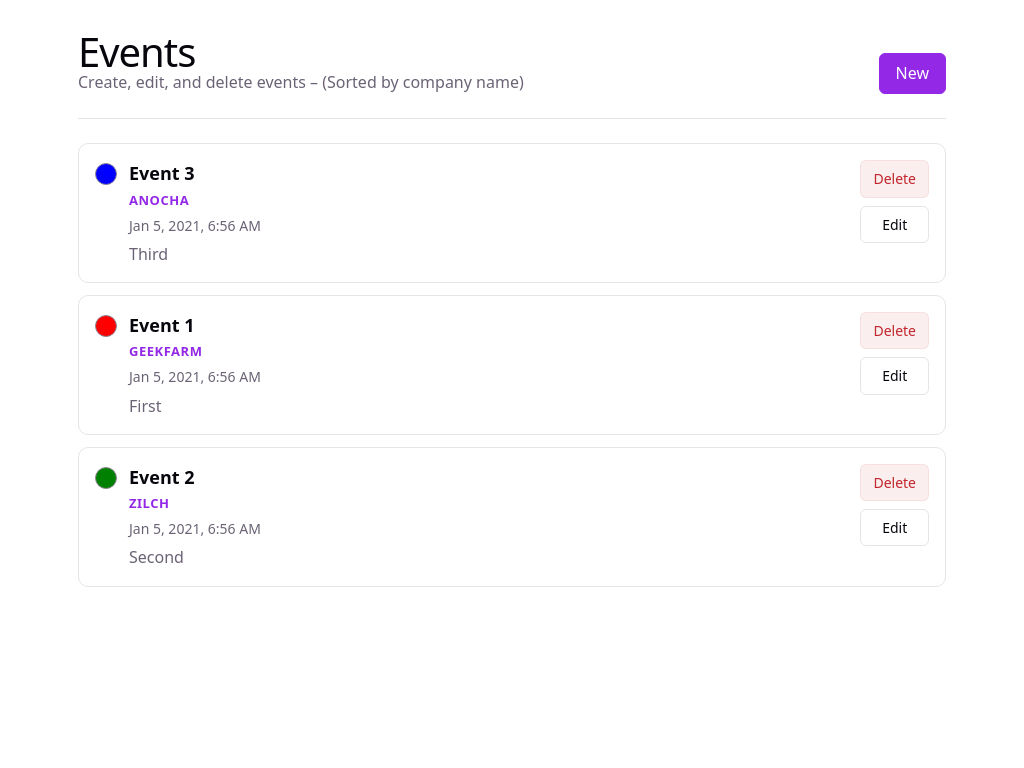
Test case: focus management › moves focus to the heading when a save finds the event already deleted
Click the button with aria-label "Edit Event 1".
click(895, 376)  # box [860, 357, 929, 394]
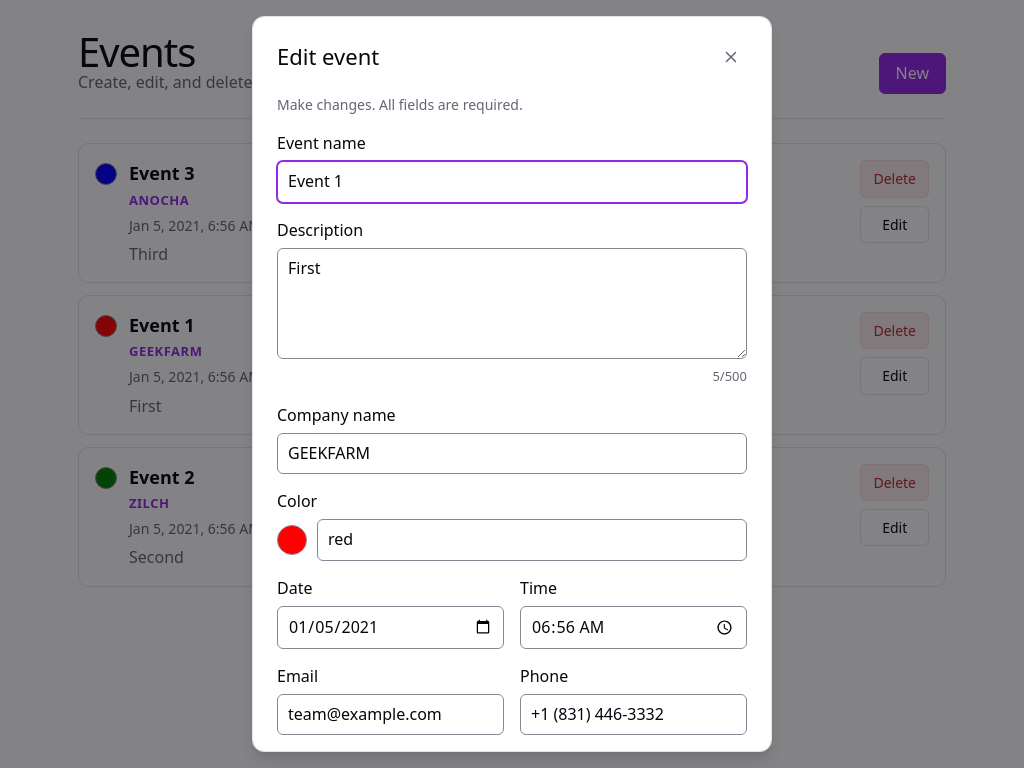
Type "!" into the field labelled "Event name".
click(512, 182); type("!")  # box [277, 161, 747, 203]
(page scrolled)
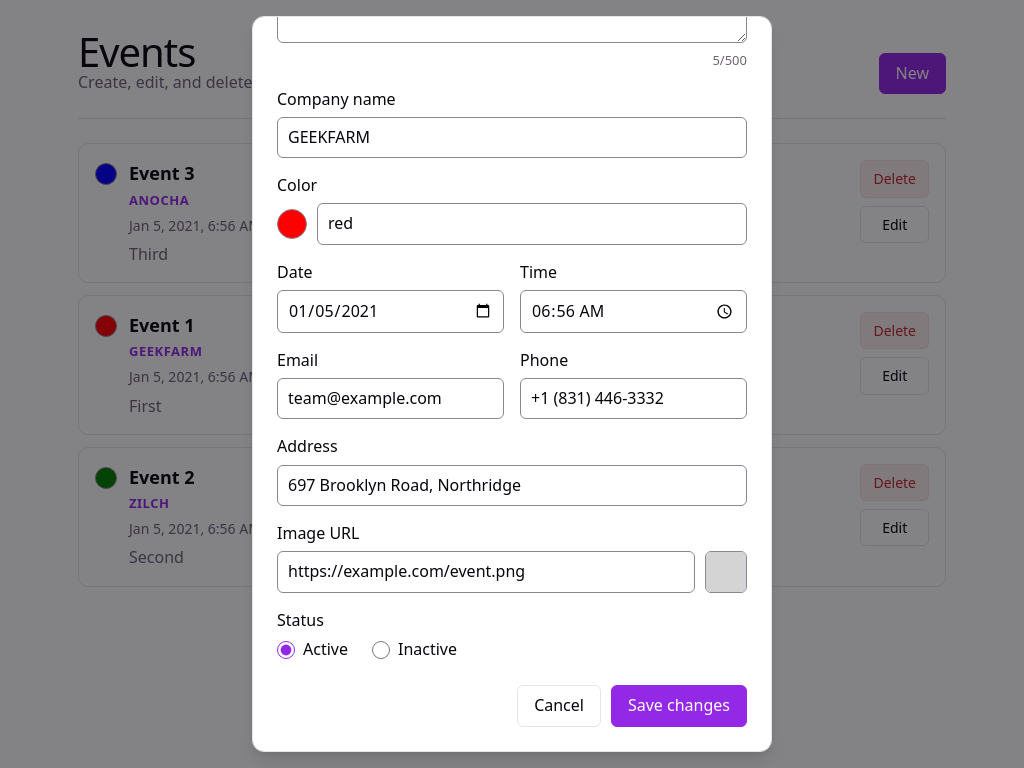
Click the button "Save changes".
click(679, 706)  # box [611, 685, 747, 726]
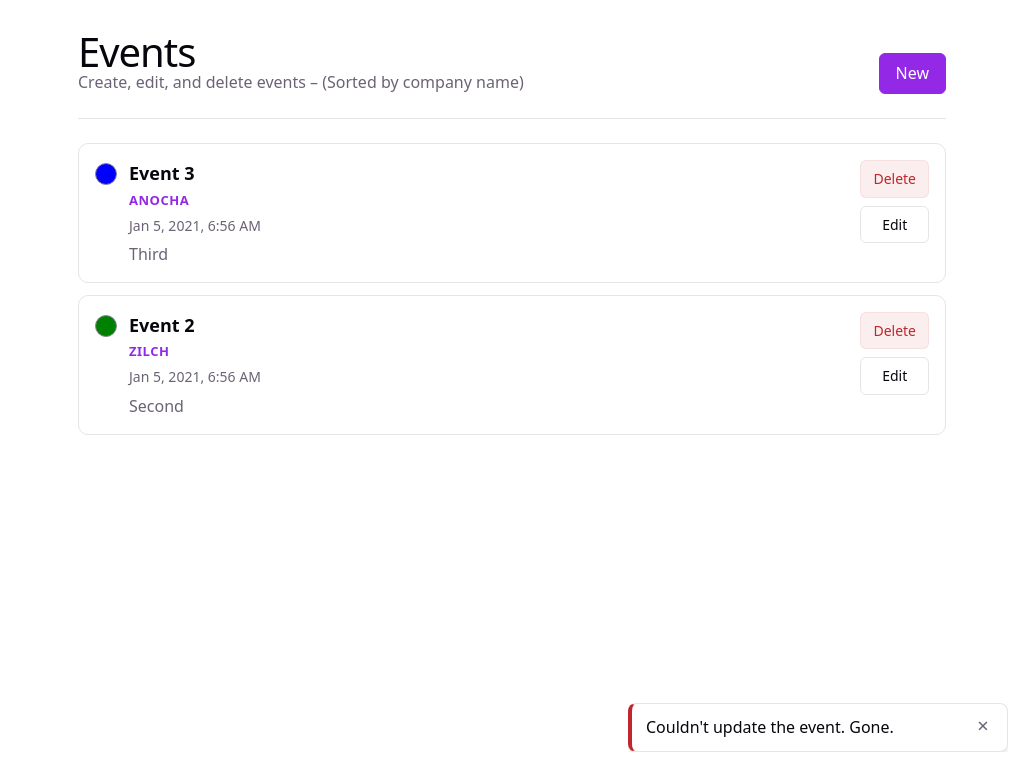
Result: the text "Couldn't update the event. Gone." is shown at [646, 716, 894, 738]
Result: the dialog is gone
